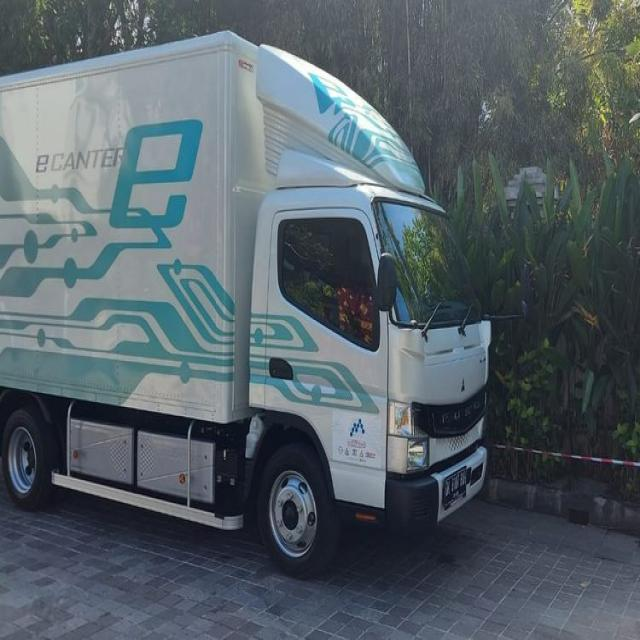truck: (0, 27, 488, 573)
